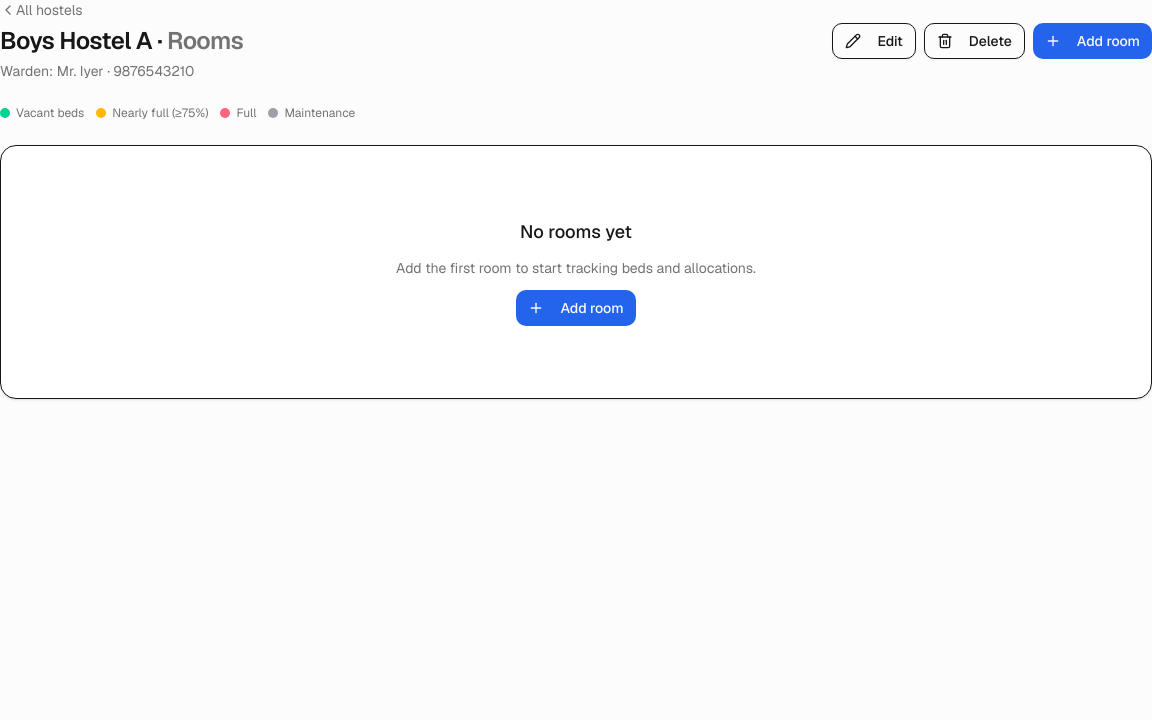
Test: saving an edited hostel › does not save an invalid warden phone
Expected: the heading "Boys Hostel A · Rooms" is shown, [0,25,243,57]
Click the button "Edit": (874, 40) [832,22,916,58]
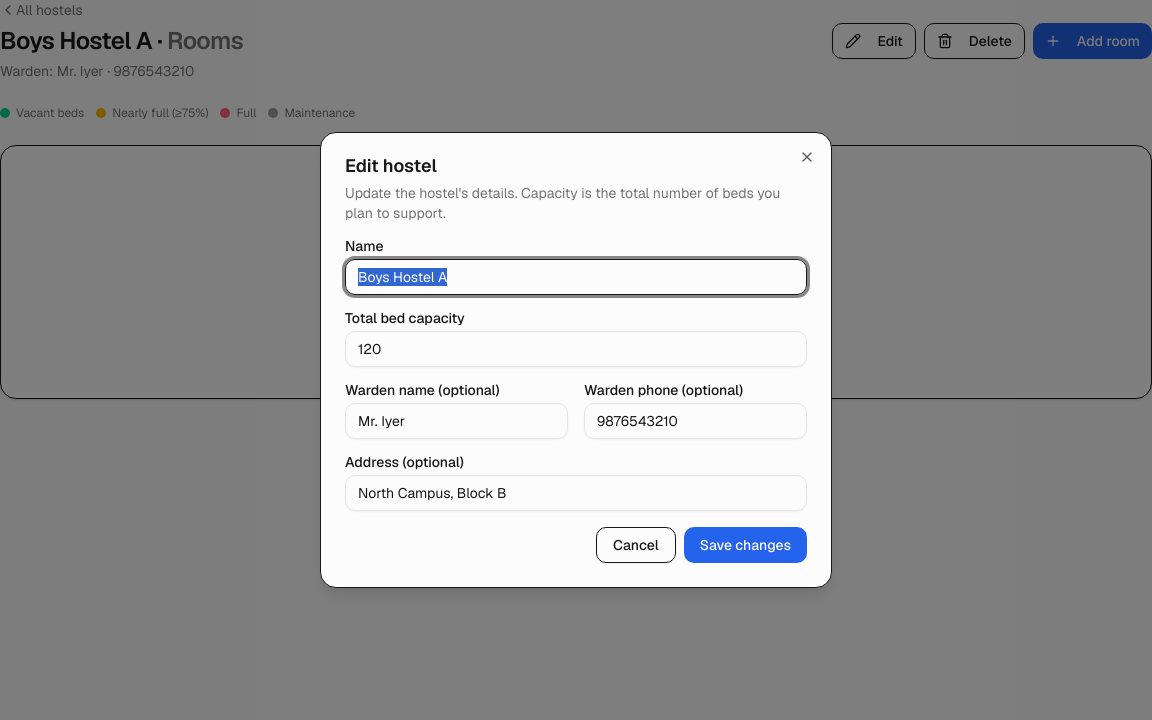
Replace the text in the field labelled "Warden phone (optional)" with "abcdefghij": (696, 421) [584,403,807,439]
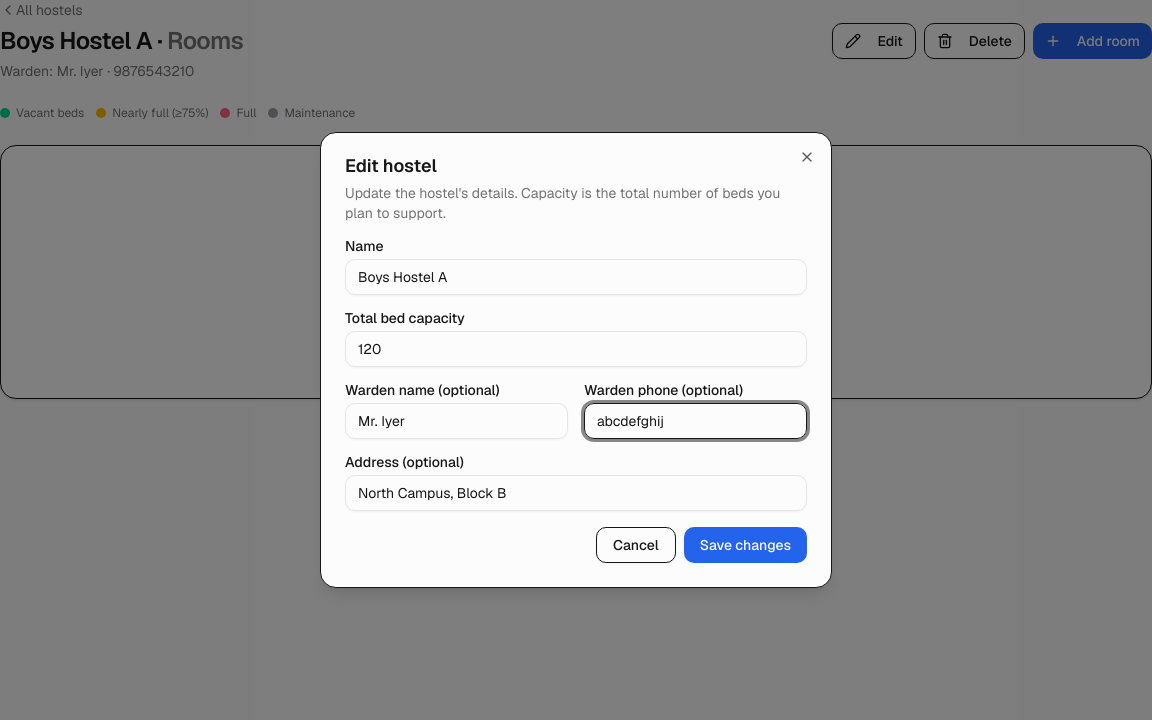
Click the button "Save changes": (745, 545) [684,527,807,563]
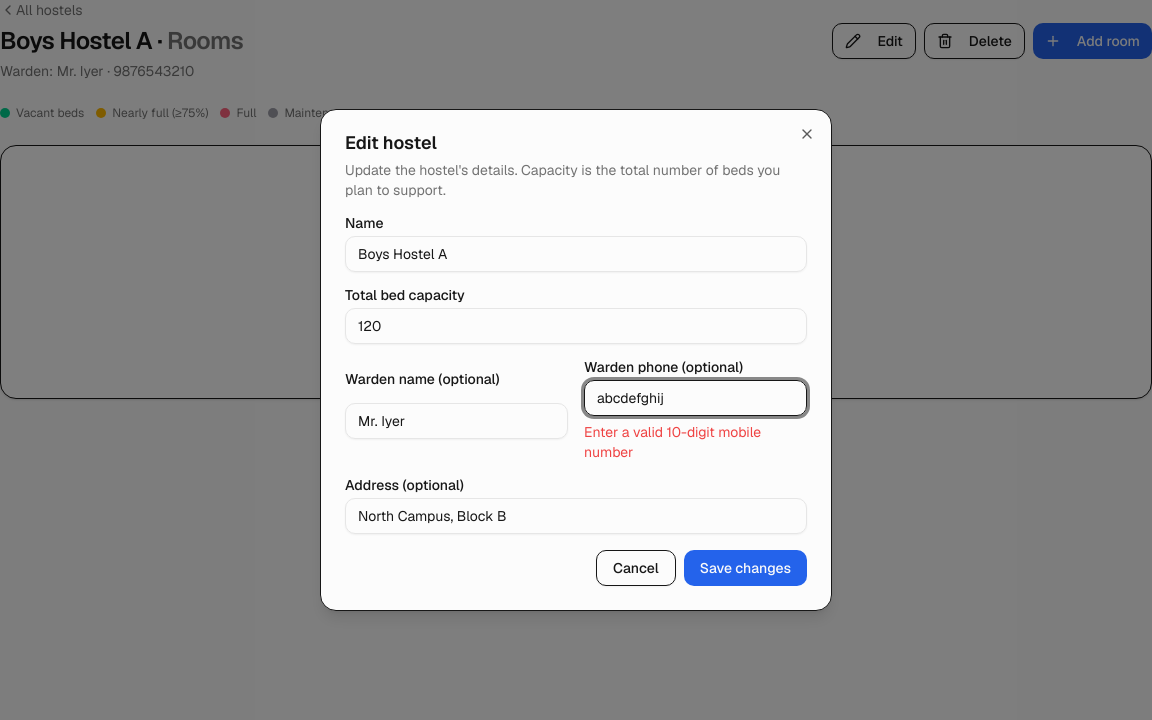
Now the text "Enter a valid 10-digit mobile number" is shown, box [584,423,761,461]
